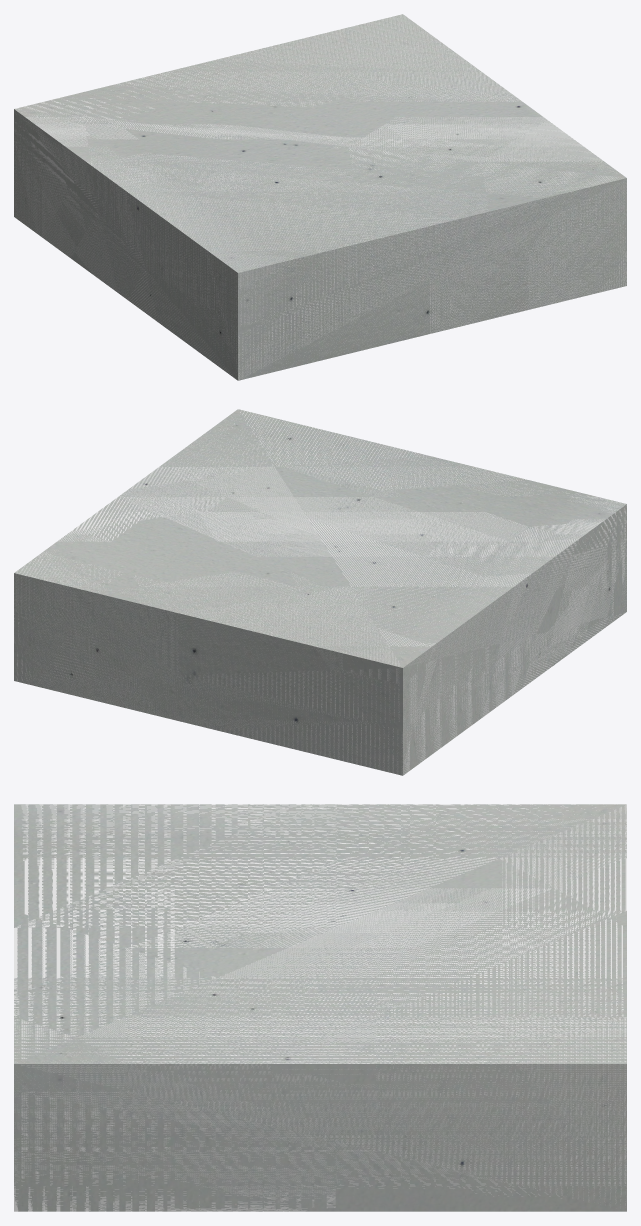
File: styroprene.dae
The picture shows the model from 3 angles, top to bottom: view 1: azimuth 30°, elevation 25°; view 2: azimuth 150°, elevation 25°; view 3: azimuth 270°, elevation 25°; orthographic projection. The views are drawn at different scales.
Visible parts, largest first — view 1: SketchUp; view 2: SketchUp; view 3: SketchUp.
Part boxes in pixels (left/top/right/bottom): SketchUp: left=14, top=14, right=626, bottom=380; SketchUp: left=14, top=409, right=626, bottom=775; SketchUp: left=14, top=804, right=626, bottom=1211.
Bounding box in the file's own units: 0.3003 × 0.2995 × 0.0796.
Materials: 2 (1 with a texture image).
